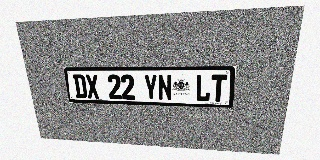2: (120, 74, 135, 100), (107, 74, 122, 99)
D: (73, 74, 88, 98)
L: (195, 74, 211, 102)
N: (158, 74, 172, 101)
T: (210, 74, 227, 102)
X: (85, 74, 100, 99)
Y: (143, 74, 158, 100)
